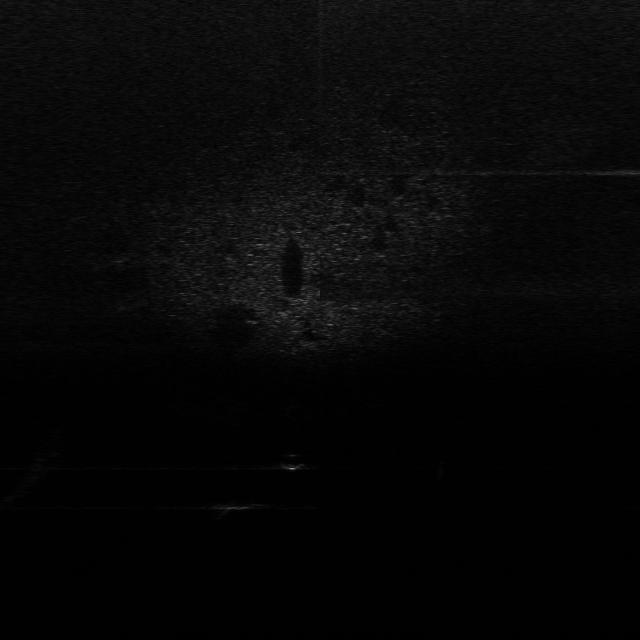ball: (274, 449, 310, 474)
square cage: (207, 488, 272, 518)
